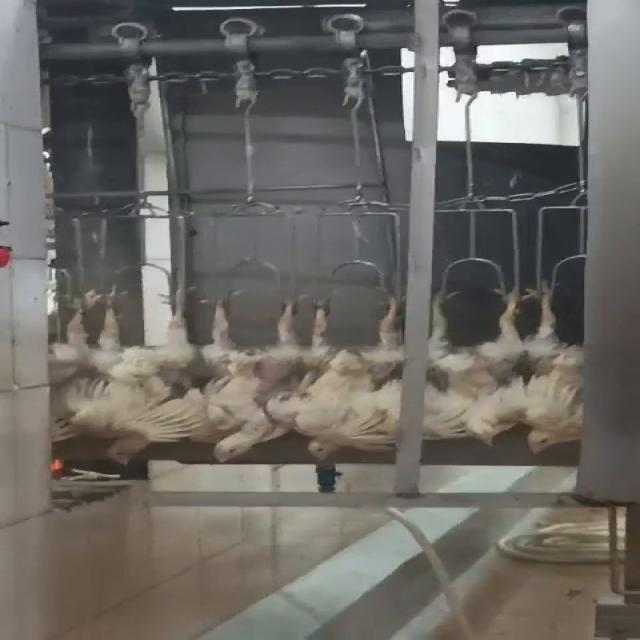chicken: (196, 290, 330, 466), (92, 278, 202, 464), (293, 291, 403, 463), (420, 283, 520, 449), (516, 266, 586, 456), (39, 282, 101, 450)
